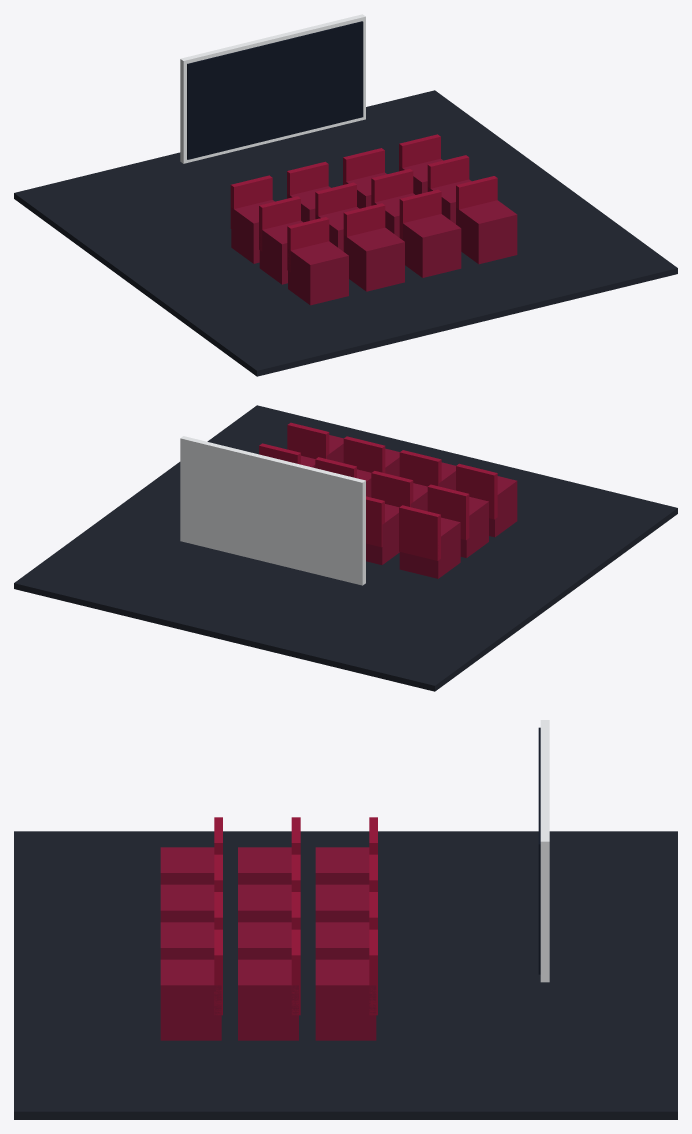
File: cinema.glb
The picture shows the model from 3 angles, top to bottom: view 1: azimuth 30°, elevation 25°; view 2: azimuth 150°, elevation 25°; view 3: azimuth 270°, elevation 25°; orthographic projection. The views are drawn at different scales.
Size of the model in its own units: 6 by 1.98 by 6.
